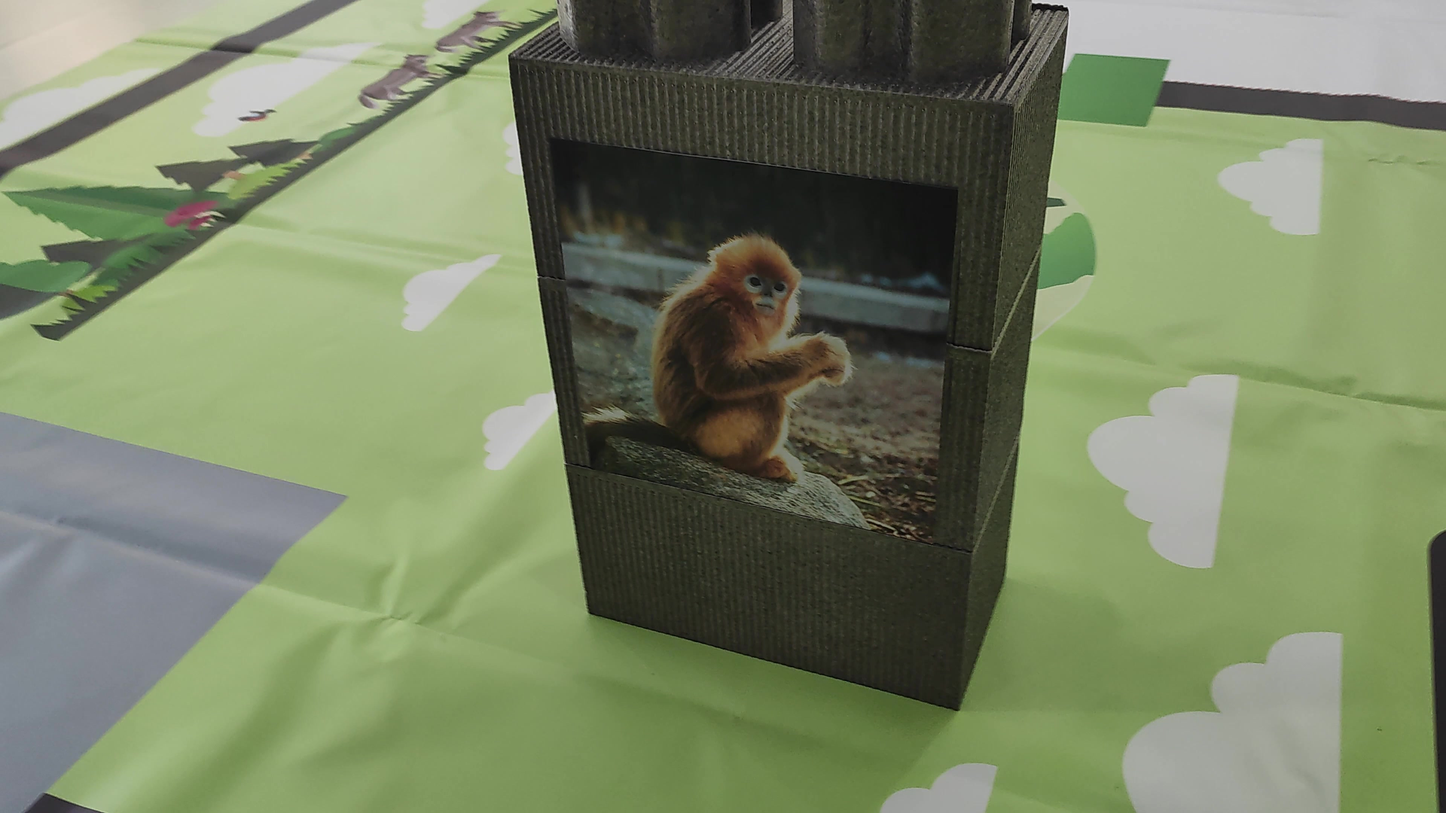monkey: (558, 157, 952, 505)
